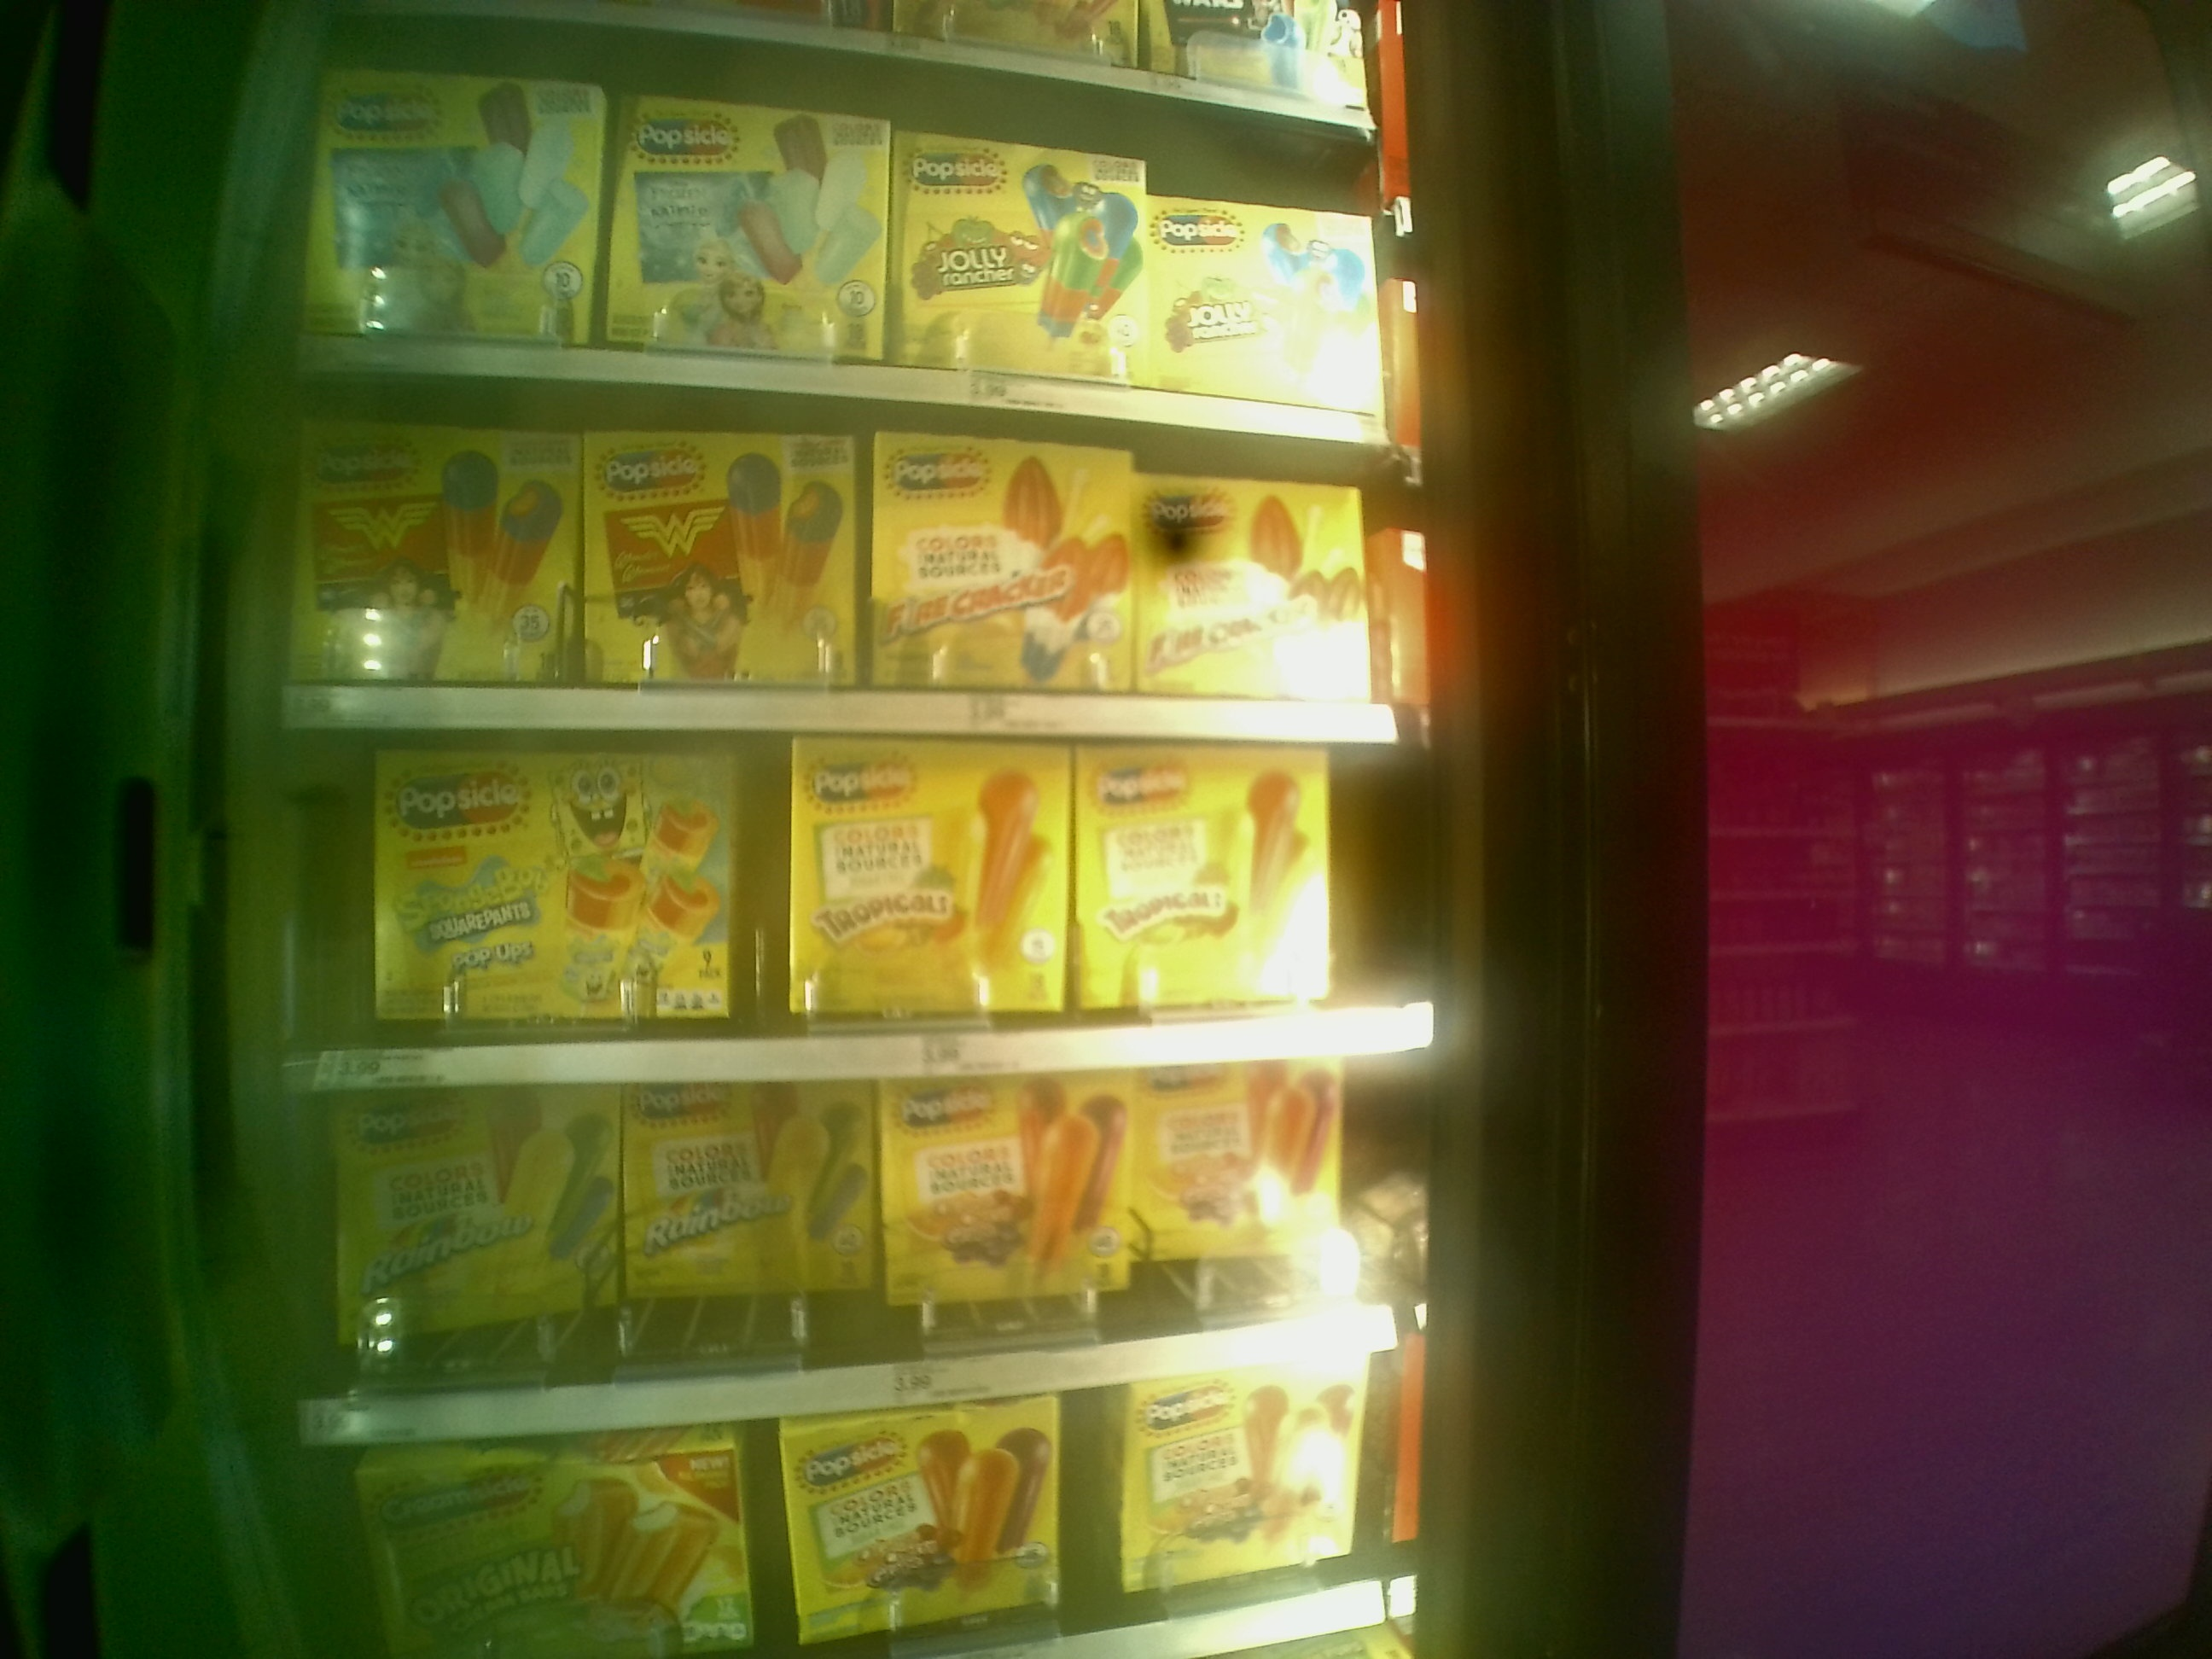shelf: (275, 383, 1402, 741), (298, 718, 1440, 1068)
